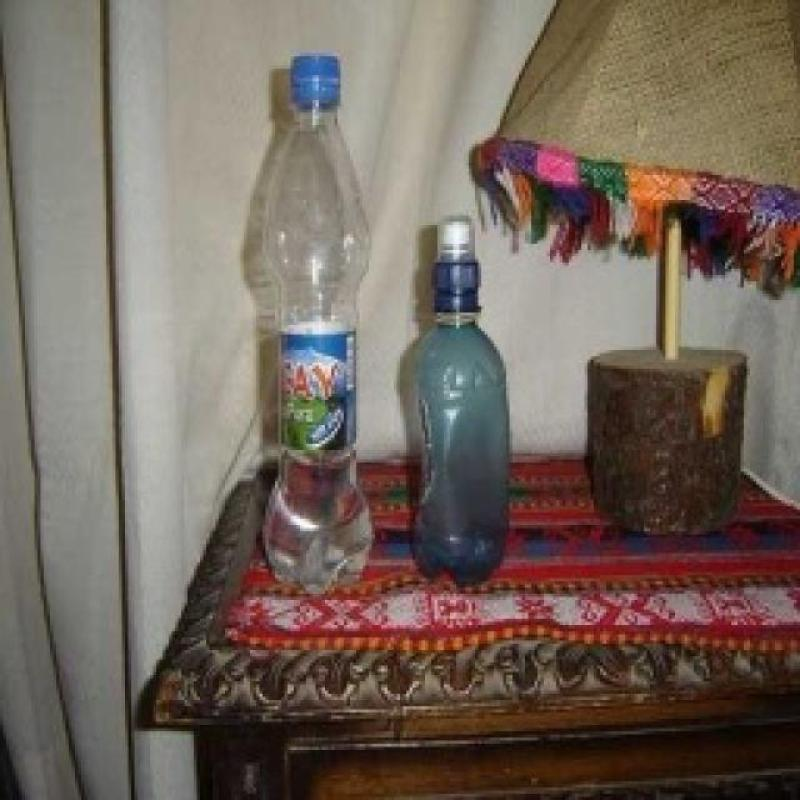botella: (244, 60, 368, 588), (394, 219, 512, 591)
